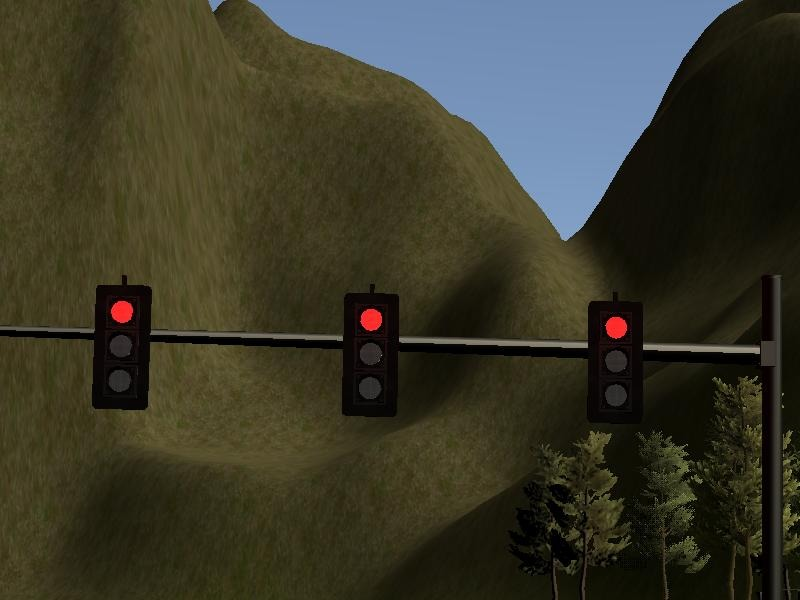red: (91, 284, 151, 410), (586, 303, 646, 429), (341, 292, 401, 418)
